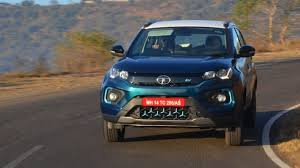Tata Nexon: (98, 16, 259, 150)
